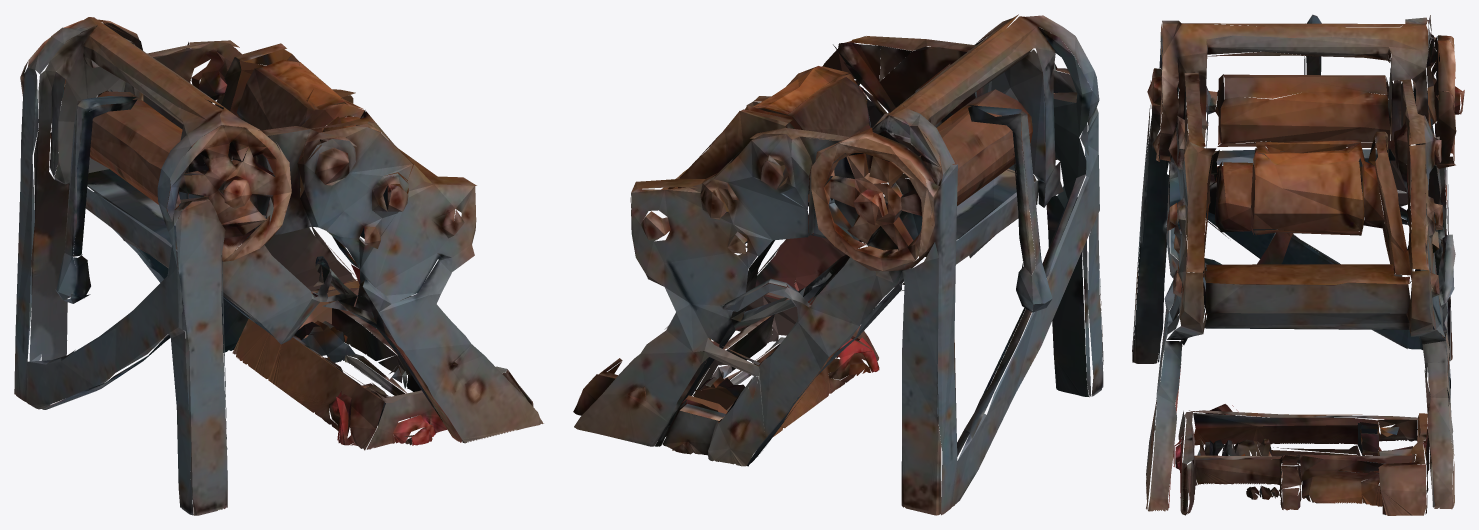
The model's file is scrap-press.glb.
3 views of the same model, side by side, from view 1: azimuth 30°, elevation 25°; view 2: azimuth 150°, elevation 25°; view 3: azimuth 270°, elevation 25° (orthographic). The views are drawn at different scales.
Visible parts, largest first — view 1: tmp4be1no1a.ply; view 2: tmp4be1no1a.ply; view 3: tmp4be1no1a.ply.
Boxes of the visible parts, box(x1,y1,x2,y2) form: tmp4be1no1a.ply: box(14, 17, 543, 515); tmp4be1no1a.ply: box(573, 14, 1103, 515); tmp4be1no1a.ply: box(1132, 14, 1464, 515).
Bounding box in the file's own units: 4 × 3.5 × 3.
1 material, 1 textured.
